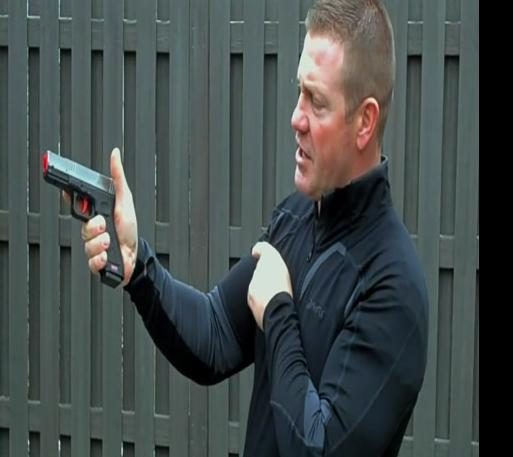pistol: (40, 148, 131, 286)
